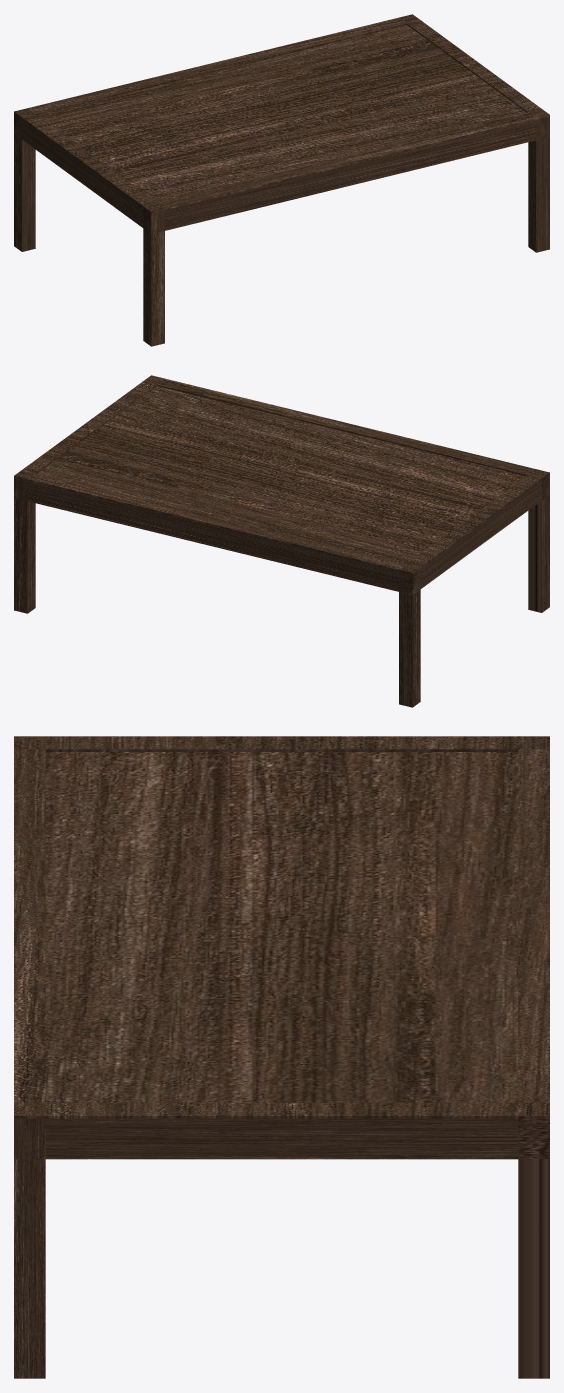
File: Table2.fbx
The picture shows the model from 3 angles, top to bottom: view 1: azimuth 30°, elevation 25°; view 2: azimuth 150°, elevation 25°; view 3: azimuth 270°, elevation 25°; orthographic projection. The views are drawn at different scales.
Parts seen in each view (by area): view 1: Cube.008; view 2: Cube.008; view 3: Cube.008.
Boxes of the visible parts, bbox=[...] form: Cube.008: bbox=[14, 14, 549, 346]; Cube.008: bbox=[14, 375, 549, 707]; Cube.008: bbox=[14, 736, 549, 1378].
Bounding box in the file's own units: 1022 × 330 × 610.
